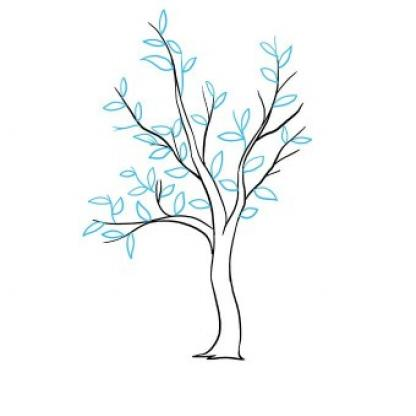branch_sharp: (75, 22, 306, 252)
trunk_reflex: (206, 258, 249, 330)
